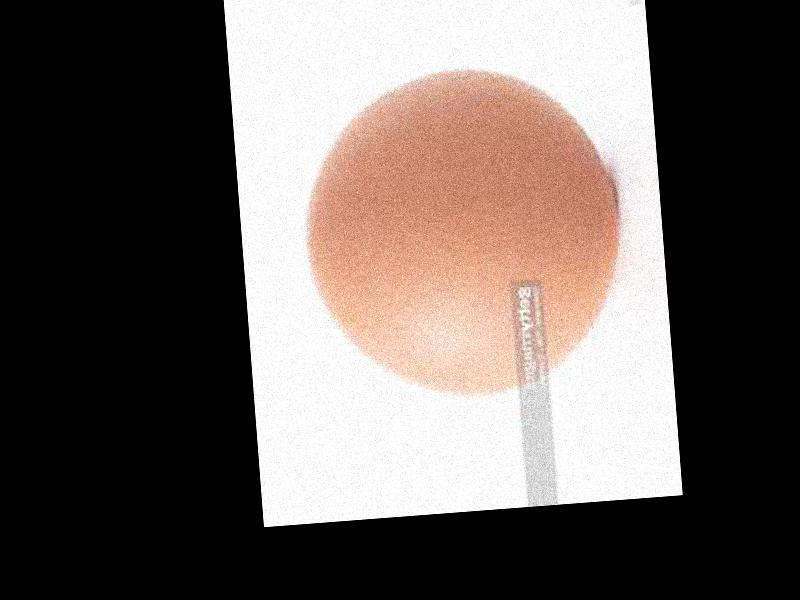Eggs: (294, 60, 624, 408)
